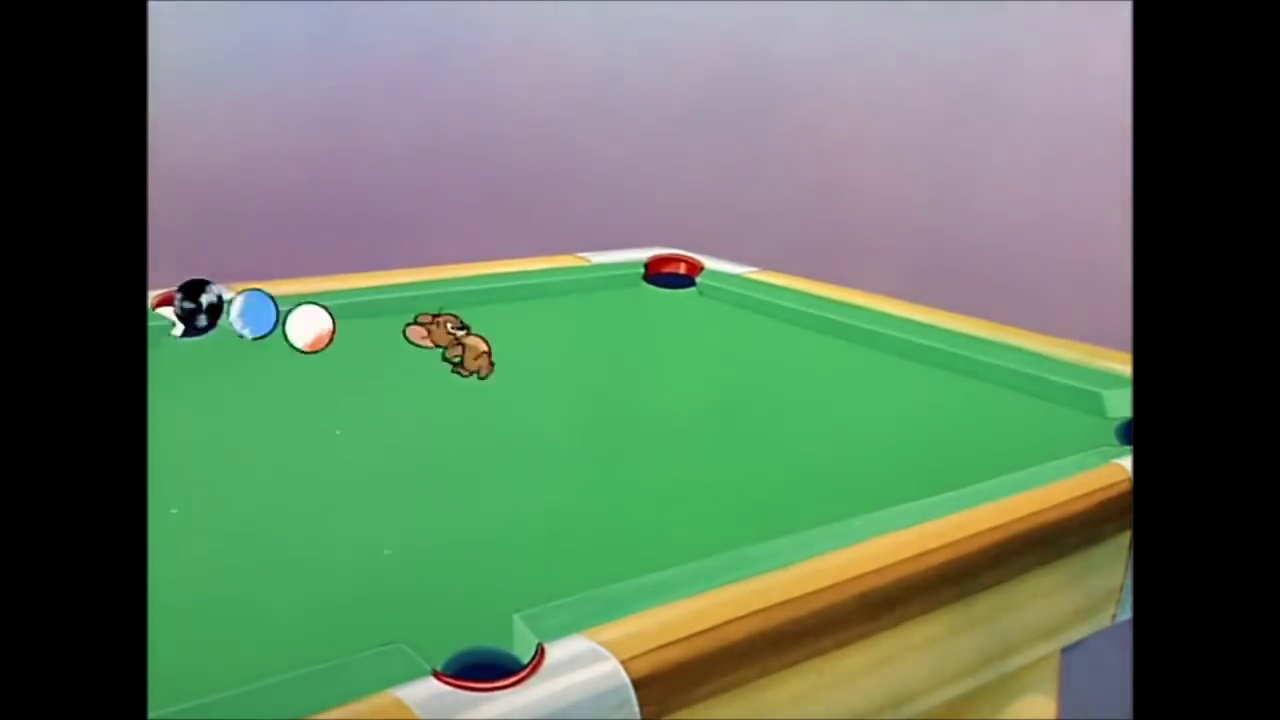sad: (433, 308, 468, 343)
